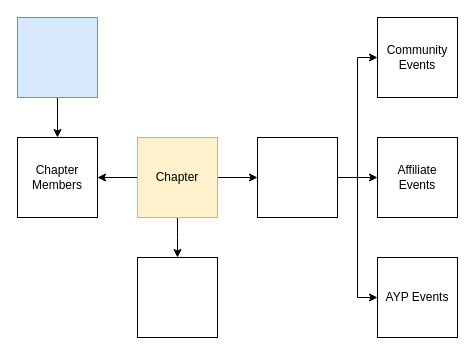
Some shapes in this 475 by 355 pixel diagram are drawn without their labels. The shapes that lost their labels are listed below. From the top down, each one's centre as x and y in pixels, then its label:
At pixel 57 57: "AYP Member".
At pixel 297 177: "Chapter Events".
At pixel 177 297: "Chapter Leader".
